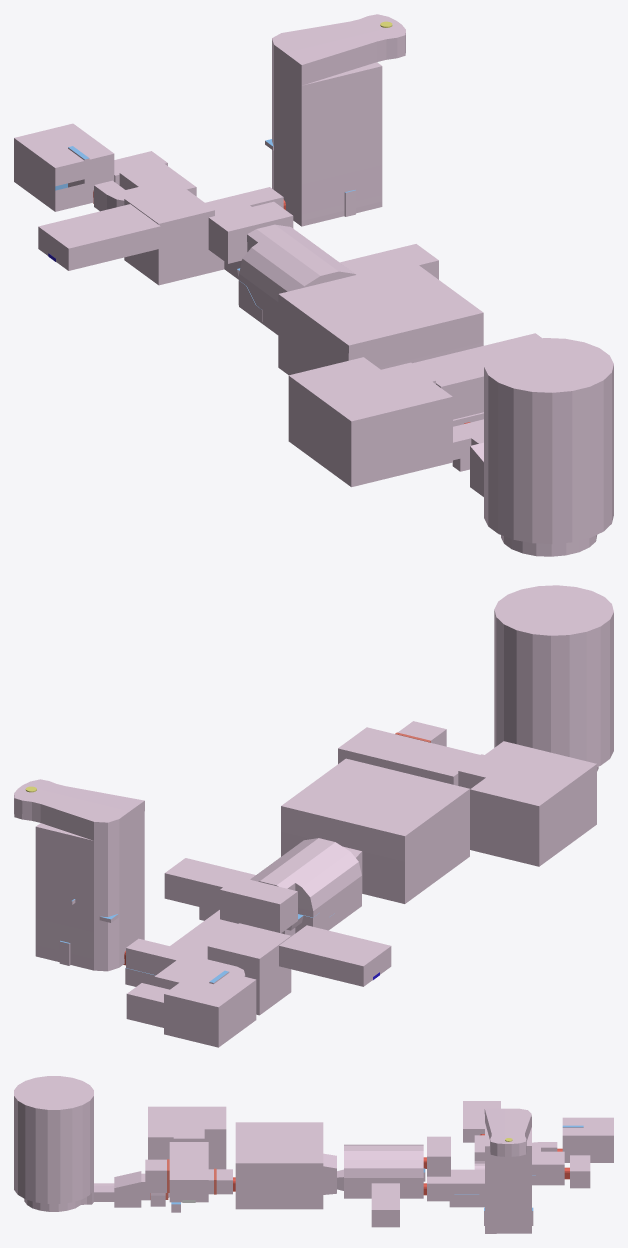
File: map.fbx
3 views of the same model, one above another, from view 1: azimuth 30°, elevation 25°; view 2: azimuth 150°, elevation 25°; view 3: azimuth 270°, elevation 25° (orthographic). The views are drawn at different scales.
Parts seen in each view (by area): view 1: first_level, second_level; view 2: first_level, second_level; view 3: first_level, second_level.
Part boxes in pixels (x1,y1,x2,y2): first_level: (278,261,613,556); second_level: (14,14,438,334); first_level: (281,585,613,903); second_level: (14,779,391,1047); first_level: (14,1076,336,1211); second_level: (337,1101,613,1233).
Size of the model in its own units: 19547 by 10228 by 44451.
